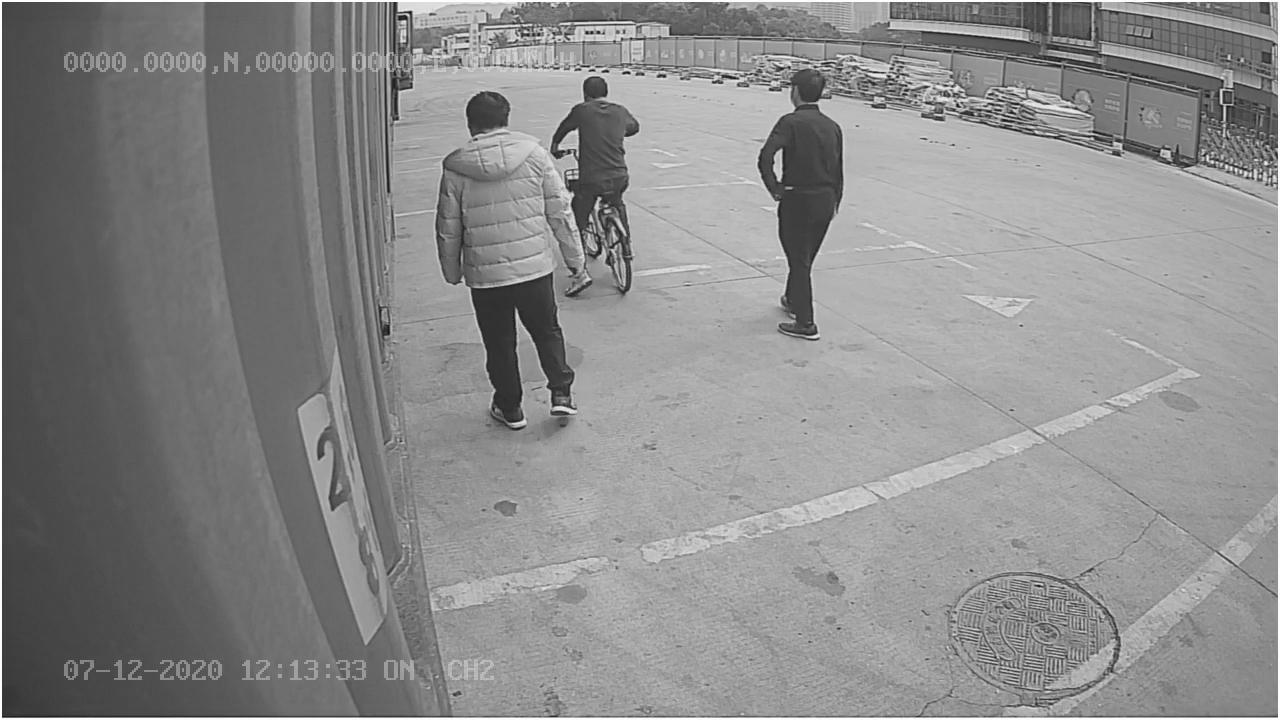person: (758, 67, 852, 341)
